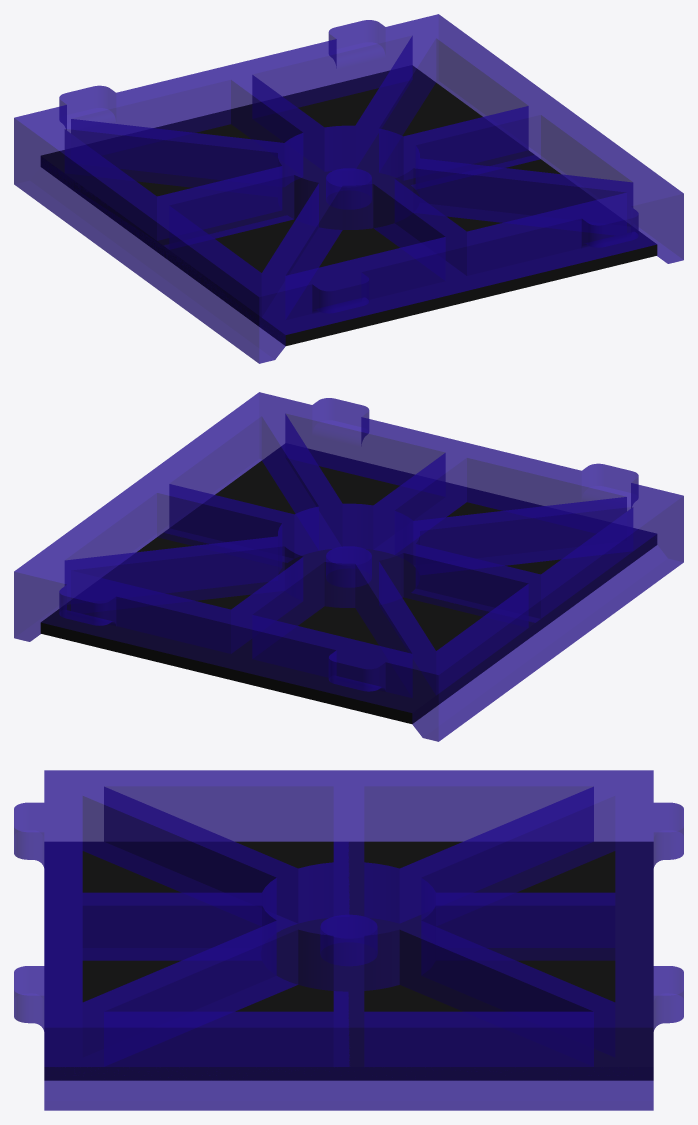
Rendered from small_base.obj.
3 renders of one model, top to bottom at view 1: azimuth 30°, elevation 25°; view 2: azimuth 150°, elevation 25°; view 3: azimuth 270°, elevation 25°, orthographic. The views are drawn at different scales.
Parts seen in each view (by area): view 1: Body1:1, Body1; view 2: Body1:1, Body1; view 3: Body1:1, Body1.
Part boxes in pixels (left/top/right/bottom): Body1:1: left=14, top=14, right=683, bottom=363; Body1: left=41, top=65, right=657, bottom=345; Body1:1: left=14, top=392, right=683, bottom=741; Body1: left=40, top=444, right=657, bottom=723; Body1:1: left=14, top=770, right=683, bottom=1110; Body1: left=44, top=841, right=653, bottom=1080.
Size of the model in its own units: 1 by 0.25 by 1.1.
